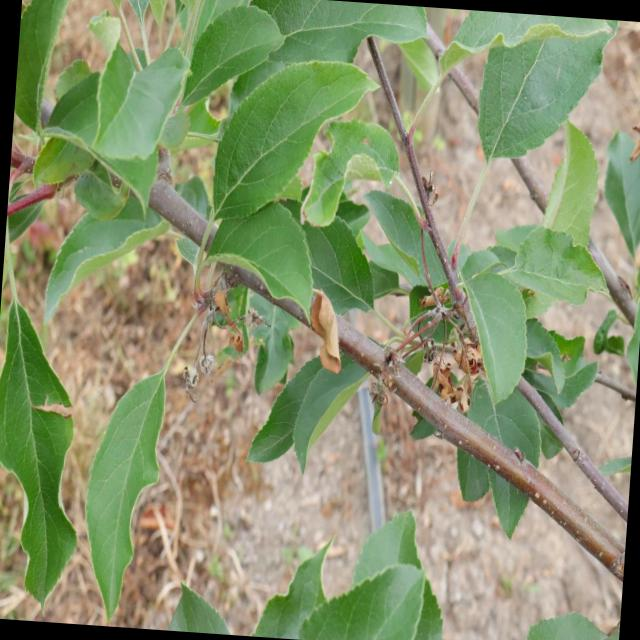-FireBlight-: (418, 326, 482, 406), (302, 287, 348, 376)
